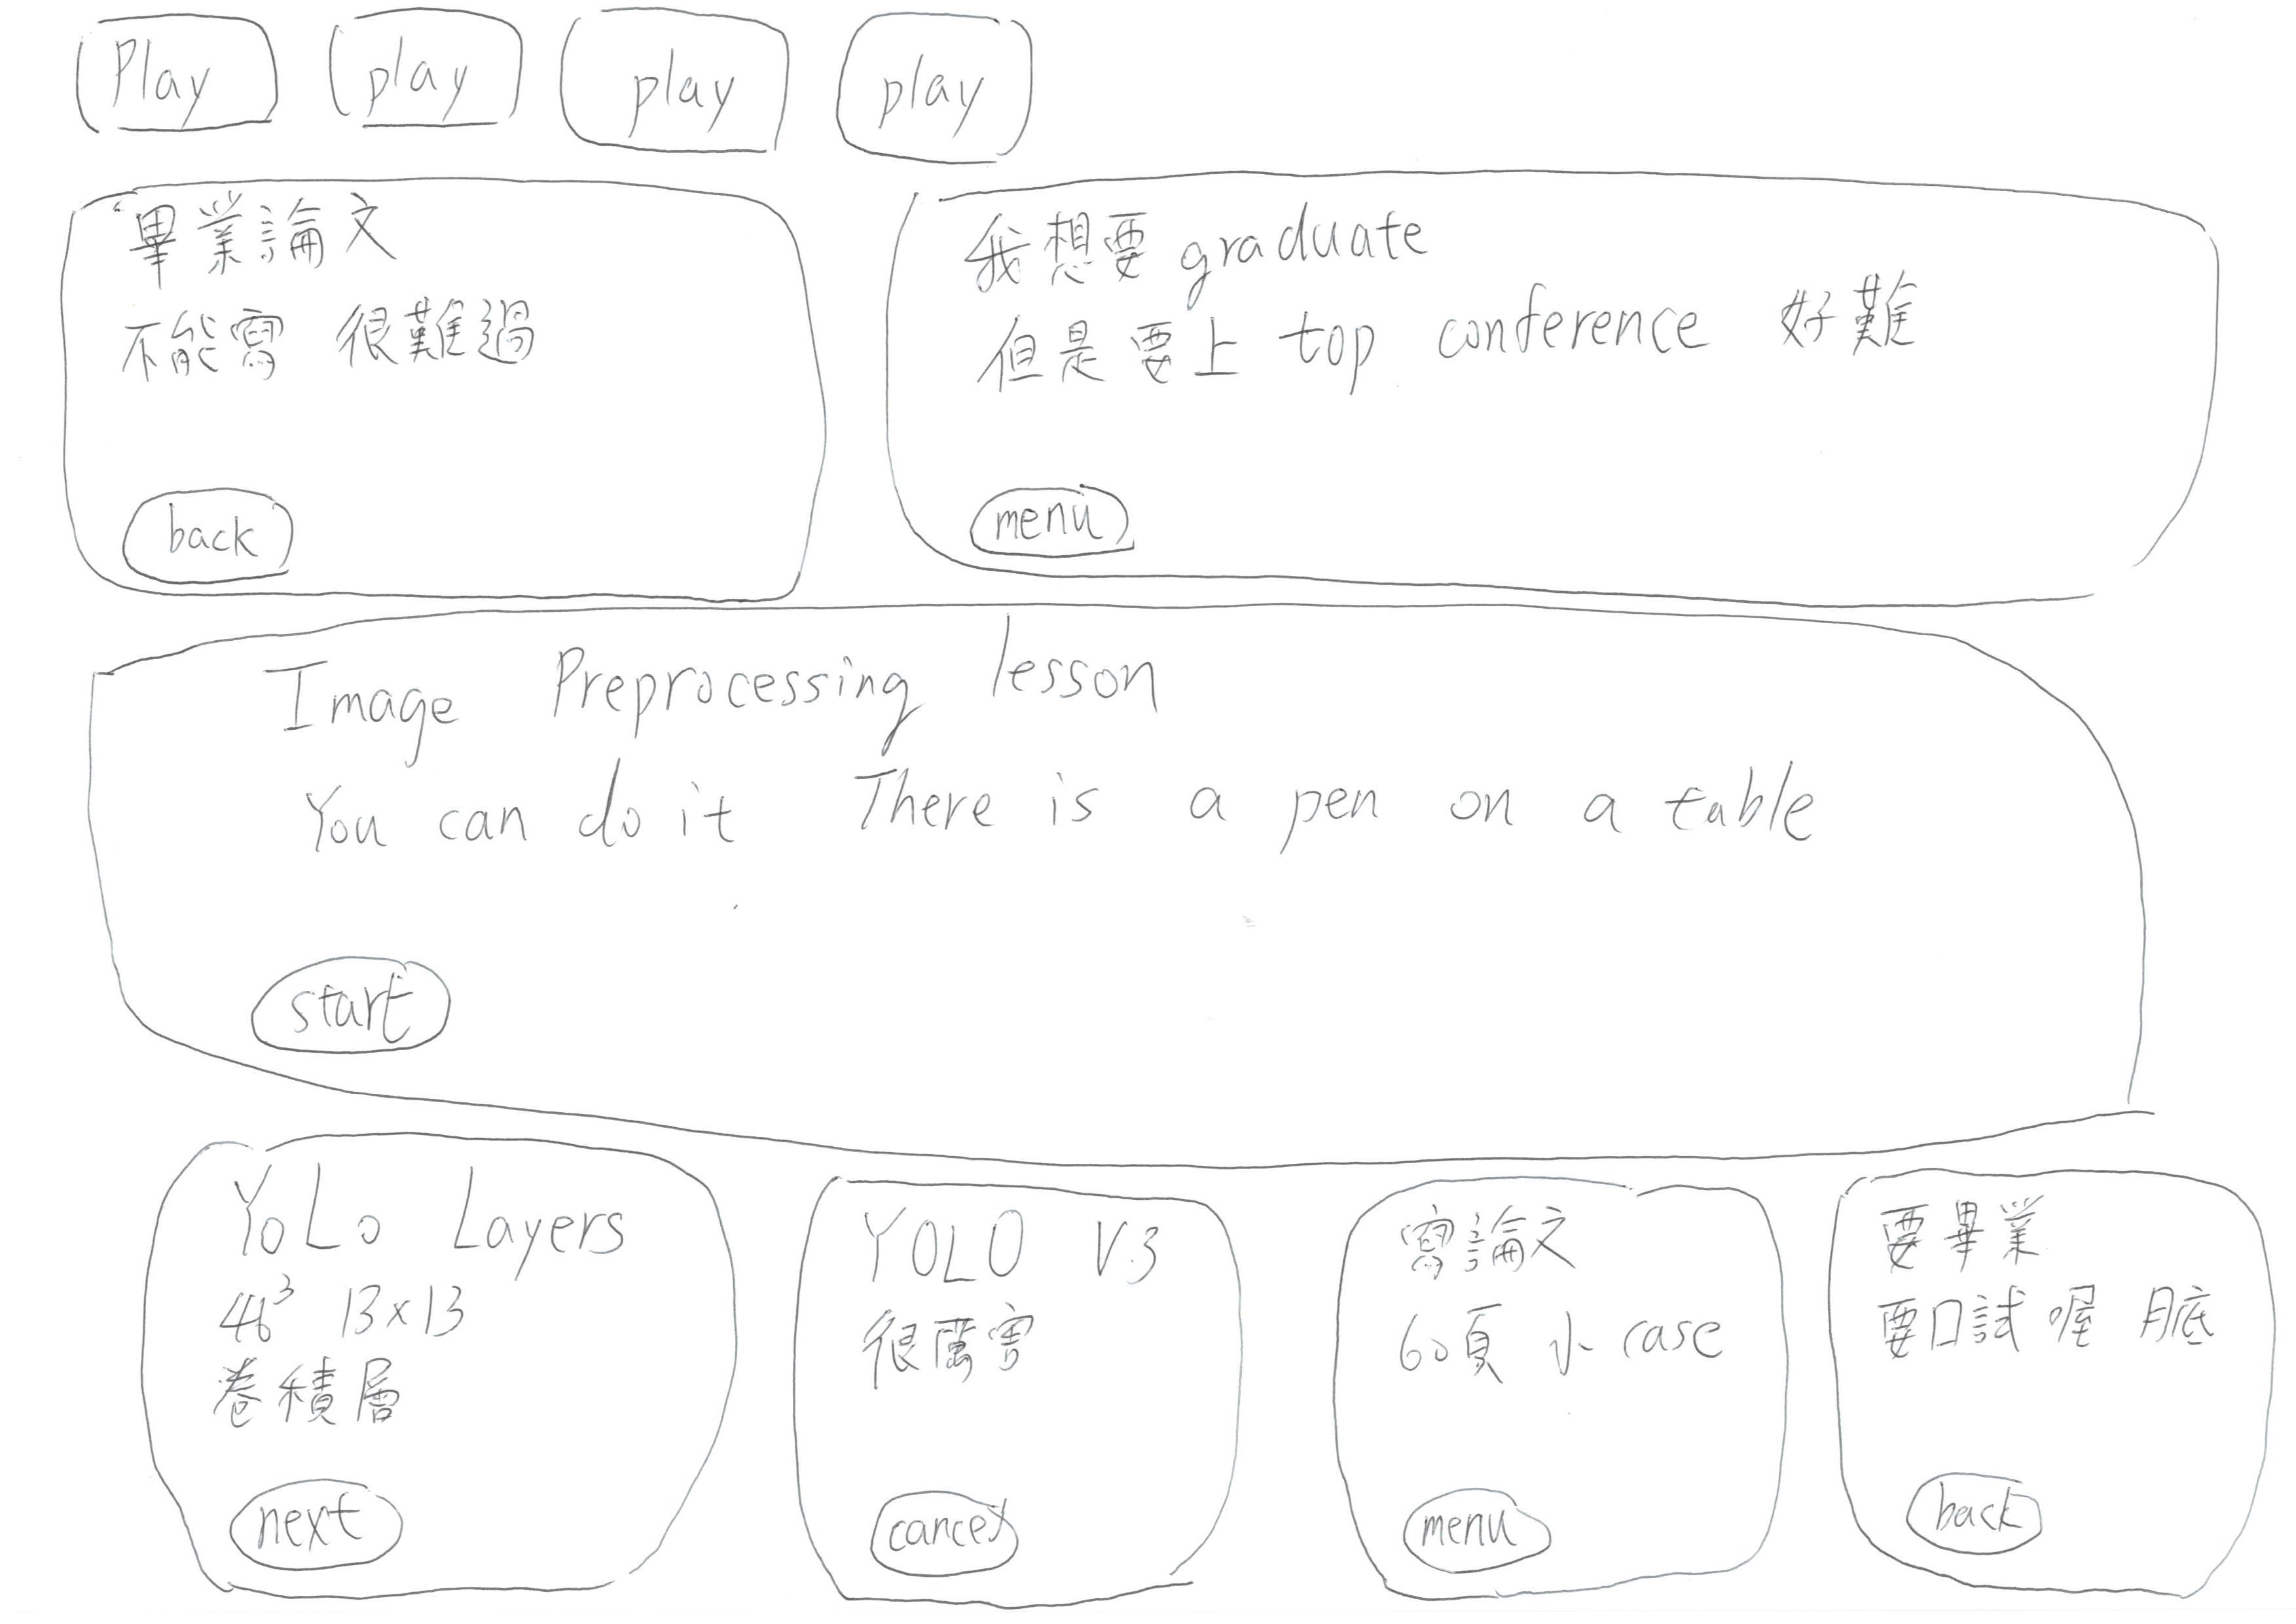back: (113, 471, 299, 587), (1897, 1455, 2087, 1562)
cancel: (840, 1469, 1027, 1582)
double: (861, 158, 2278, 626), (44, 160, 851, 622)
menu: (942, 473, 1160, 571), (1387, 1473, 1591, 1570)
next: (216, 1457, 431, 1577)
play: (807, 0, 1065, 176), (552, 0, 809, 176), (62, 0, 295, 141), (311, 0, 545, 141)
quadruple: (97, 1109, 767, 1624), (1273, 1153, 1804, 1624), (781, 1153, 1269, 1617), (1832, 1153, 2296, 1624)
row: (19, 582, 2296, 1176), (30, 1104, 2296, 1624), (19, 160, 2296, 645), (11, 0, 2287, 186)
single: (56, 580, 2257, 1172)
small-title: (255, 640, 1195, 747), (237, 1165, 652, 1285), (865, 1190, 1197, 1294), (965, 200, 1450, 269), (120, 178, 406, 276), (1413, 1193, 1596, 1287), (1897, 1193, 2083, 1257)
start: (211, 937, 490, 1072)
text: (301, 759, 1839, 877), (972, 283, 1950, 388), (223, 1285, 490, 1443), (1871, 1271, 2249, 1376), (118, 286, 545, 376), (1375, 1315, 1739, 1394), (847, 1294, 1050, 1422)
